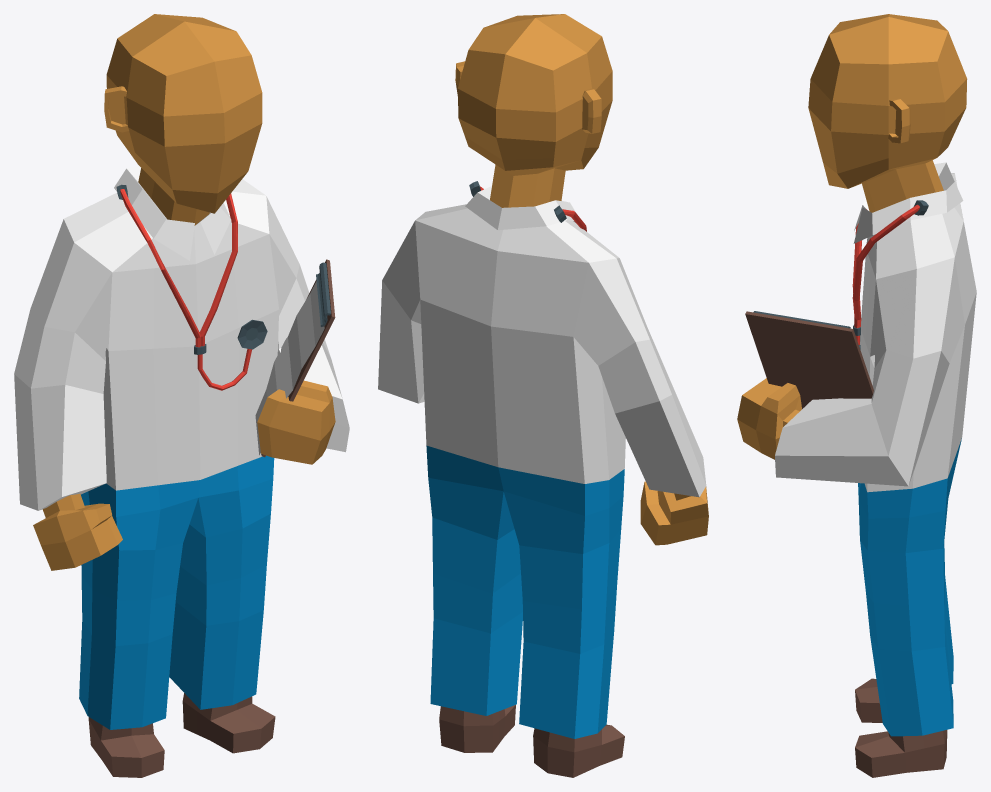
File: Doctor_01.obj
3 renders of one model, left to right at view 1: azimuth 30°, elevation 25°; view 2: azimuth 150°, elevation 25°; view 3: azimuth 270°, elevation 25°, orthographic.
Parts seen in each view (by area): view 1: doctor_Circle.001; view 2: doctor_Circle.001; view 3: doctor_Circle.001.
Boxes of the visible parts, <box> form: doctor_Circle.001: <box>14,14,349,777</box>; doctor_Circle.001: <box>378,14,708,777</box>; doctor_Circle.001: <box>737,14,976,777</box>.
Size of the model in its own units: 5.81 by 12.96 by 3.89.
